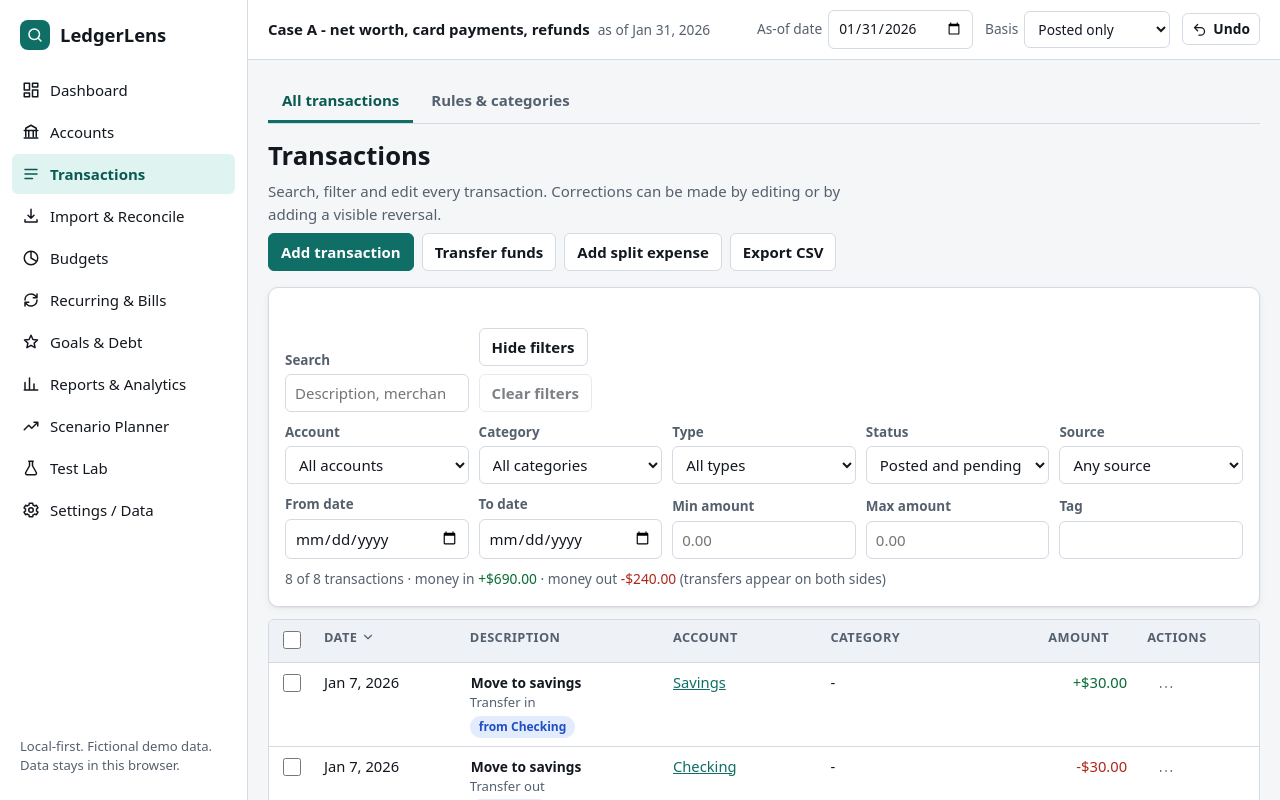
Test: transactions workflow › adds an expense from the form and rejects a malformed amount without saving
This screenshot has width=1280, height=800.
Click the button "Add transaction": x=341, y=252 [268,233,414,271]
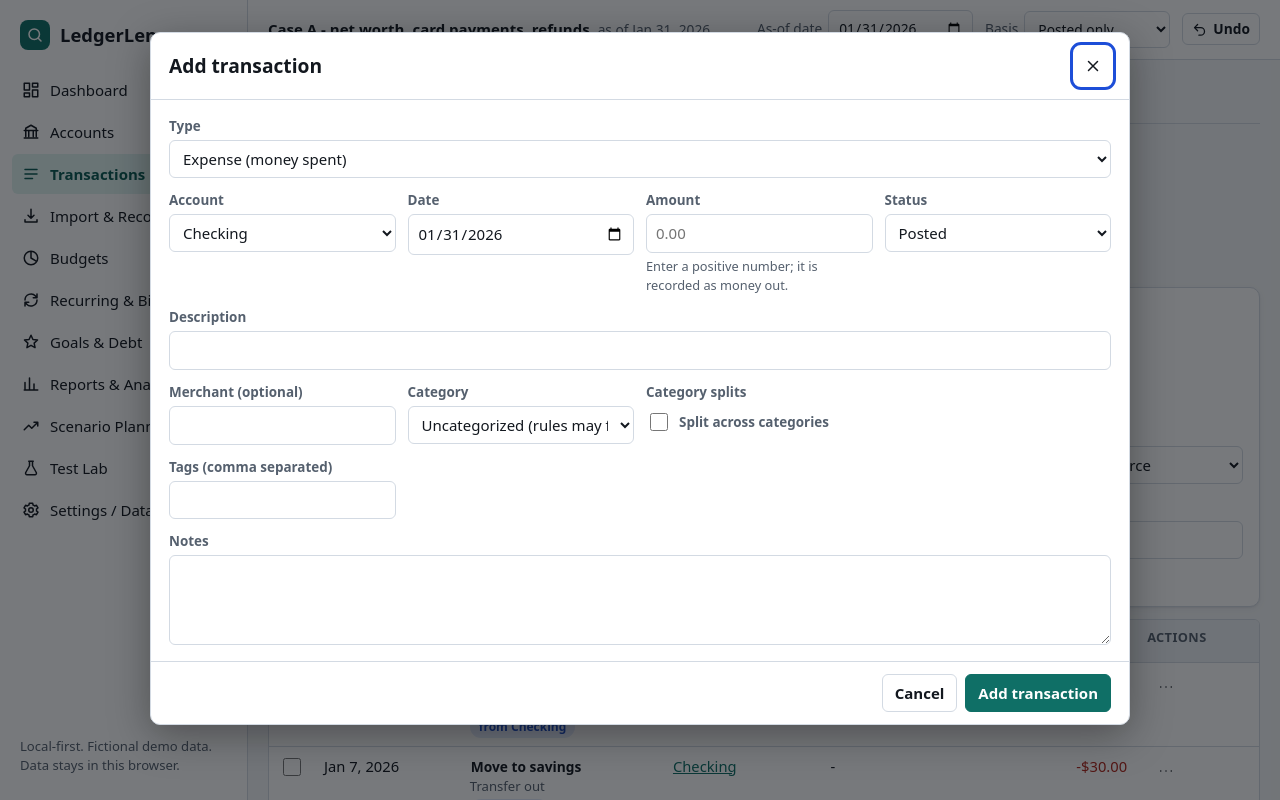
In the field labelled "Description": x=640, y=351 [169,331,1111,370], type "Hardware store"
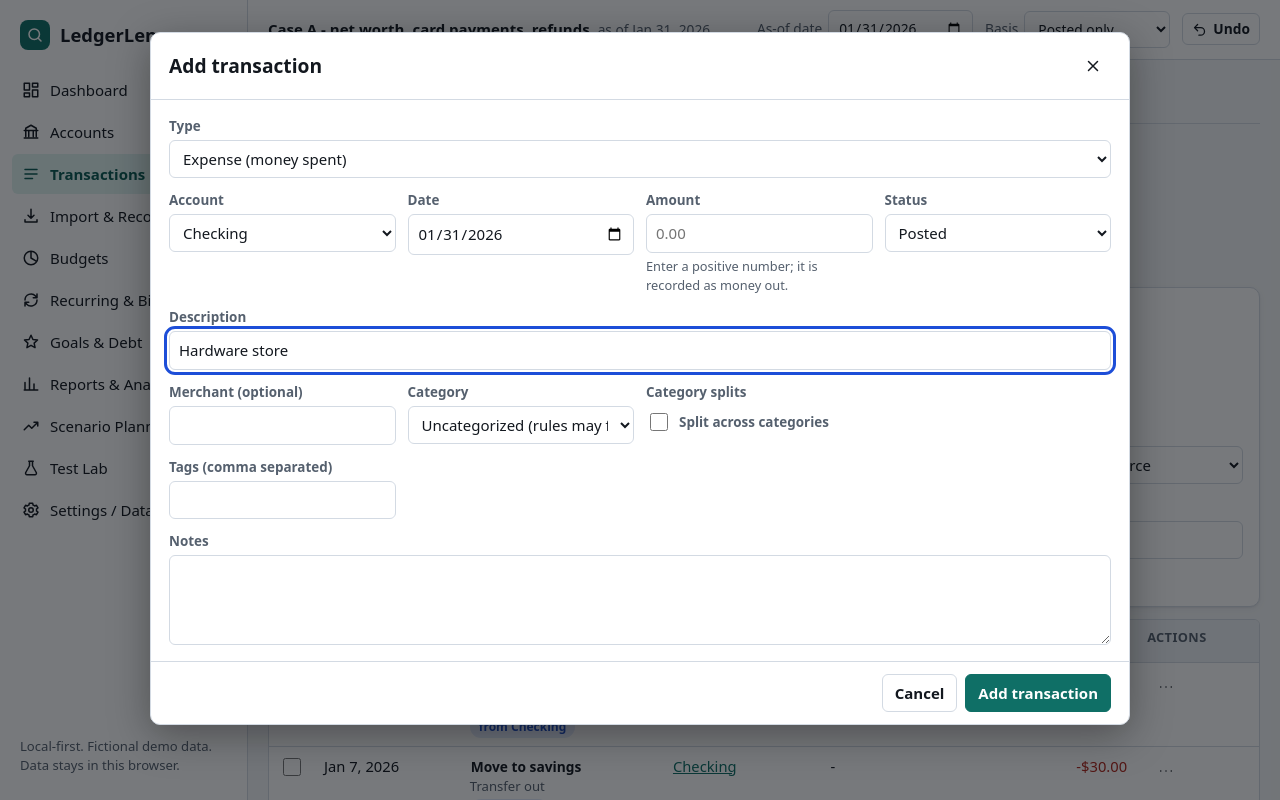
In the field labelled "Amount": x=759, y=234 [646,214,872,253], type "12.345"
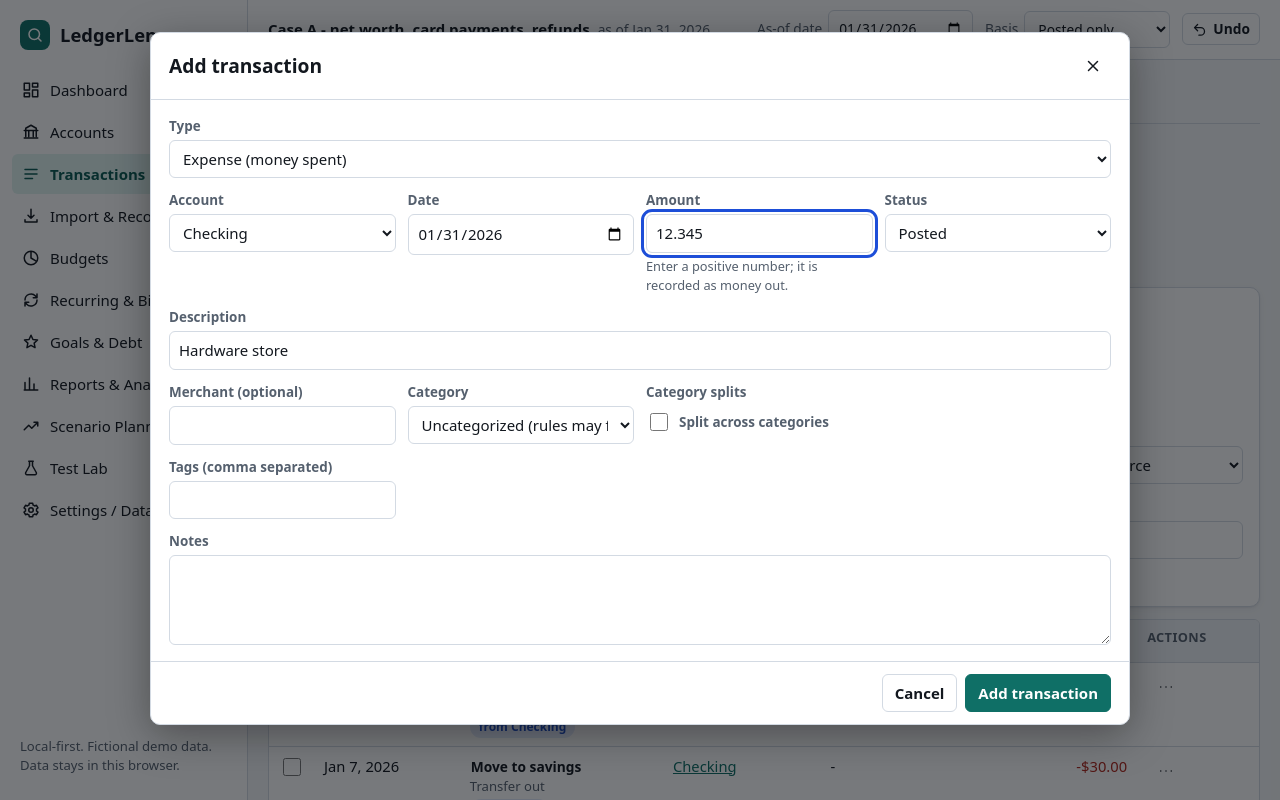
Click the button "Add transaction": x=1038, y=693 [965,674,1111,712]
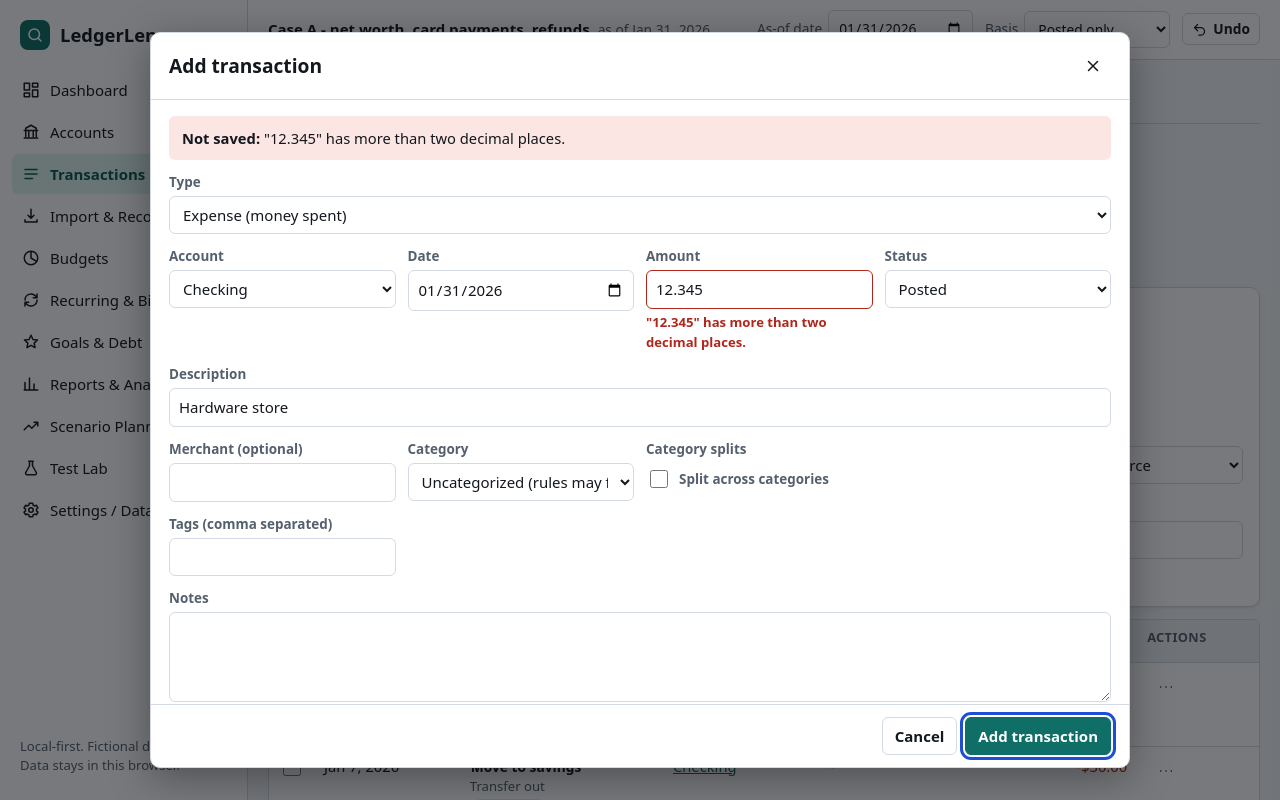
Expected: the message "Not saved: \"12.345\" has more than two decimal places." is shown, [169,116,1111,160]
Replace the text in the field labelled "Amount" with "12.34": x=759, y=290 [646,270,872,309]
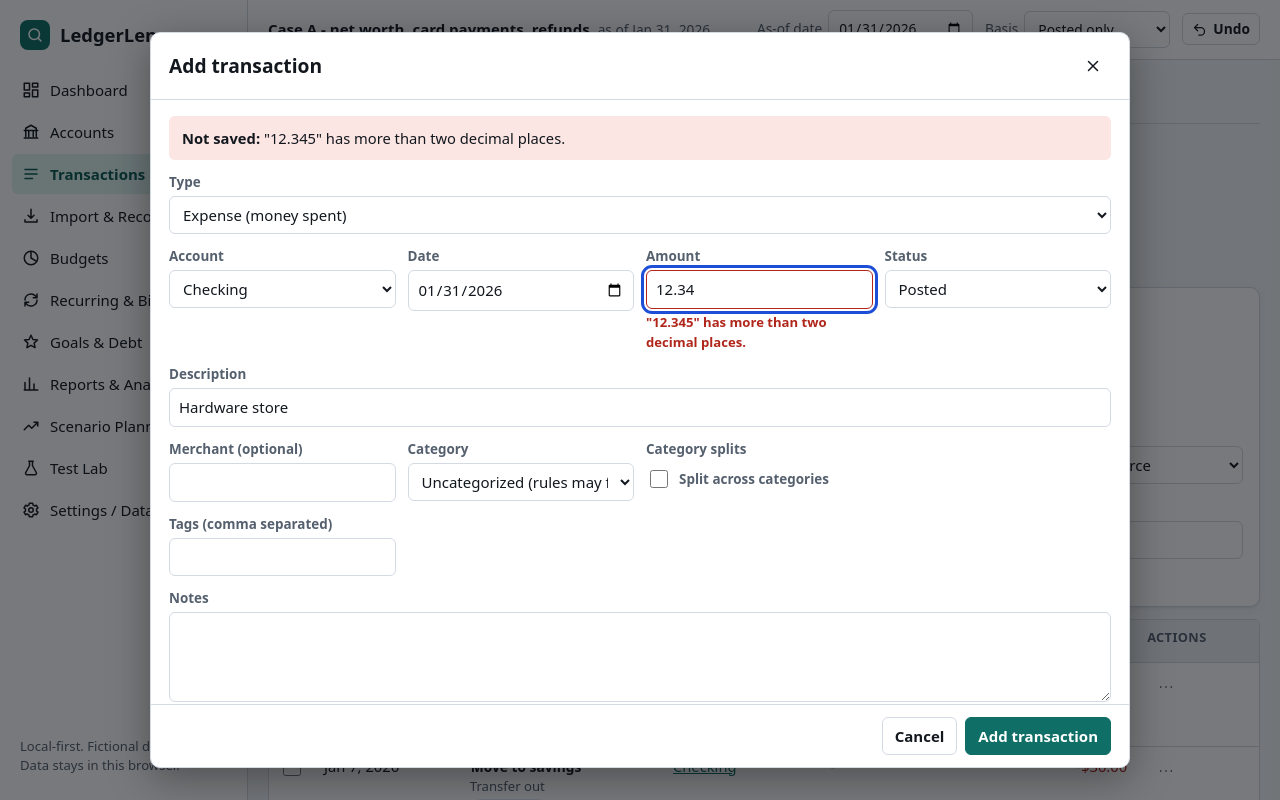
Click the button "Add transaction": x=1038, y=736 [965,717,1111,755]
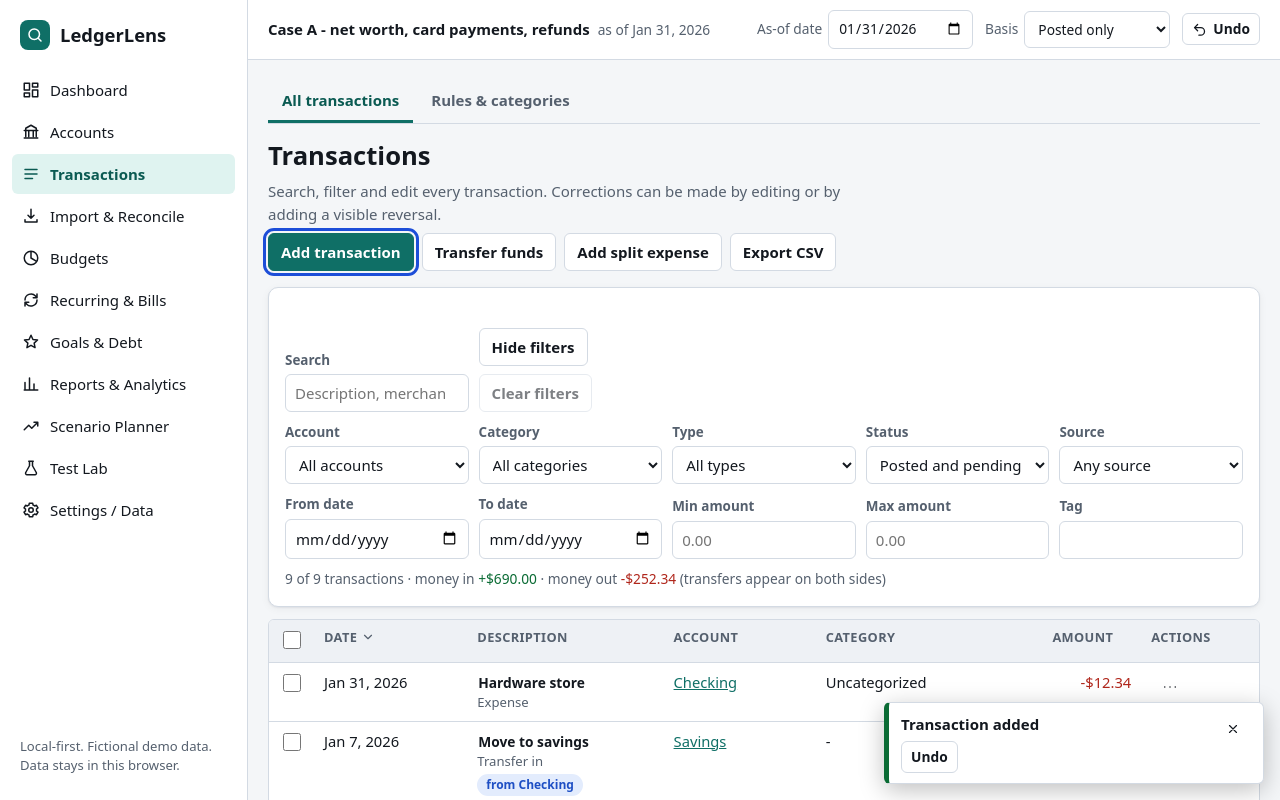
Expected: the dialog is gone
Expected: the button "Hardware store" is shown, [477,674,586,692]
